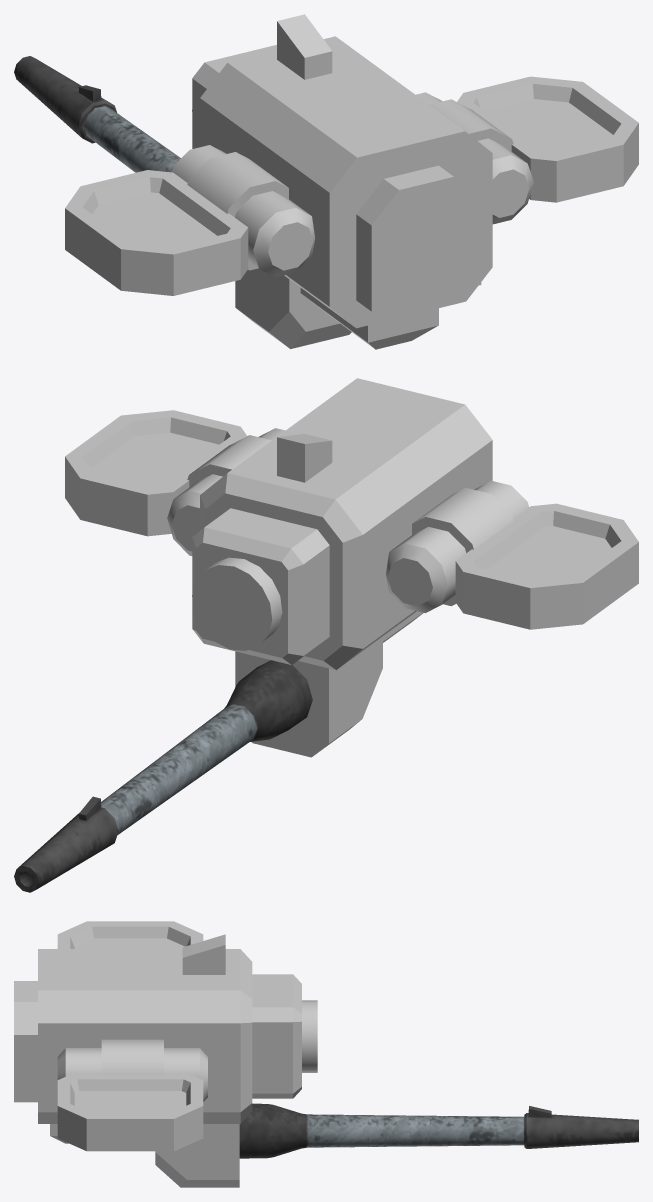
The model's file is GJ_Bot_Sniper.fbx.
3 renders of one model, top to bottom at view 1: azimuth 30°, elevation 25°; view 2: azimuth 150°, elevation 25°; view 3: azimuth 270°, elevation 25°, orthographic. The views are drawn at different scales.
Parts seen in each view (by area): view 1: GJ_Bot_Sniper; view 2: GJ_Bot_Sniper; view 3: GJ_Bot_Sniper.
Boxes of the visible parts, x1,y1,x2,y2 form: GJ_Bot_Sniper: (14, 14, 638, 349); GJ_Bot_Sniper: (14, 378, 638, 892); GJ_Bot_Sniper: (14, 921, 638, 1187).
Bounding box in the file's own units: 10.85 × 6.07 × 14.51.
